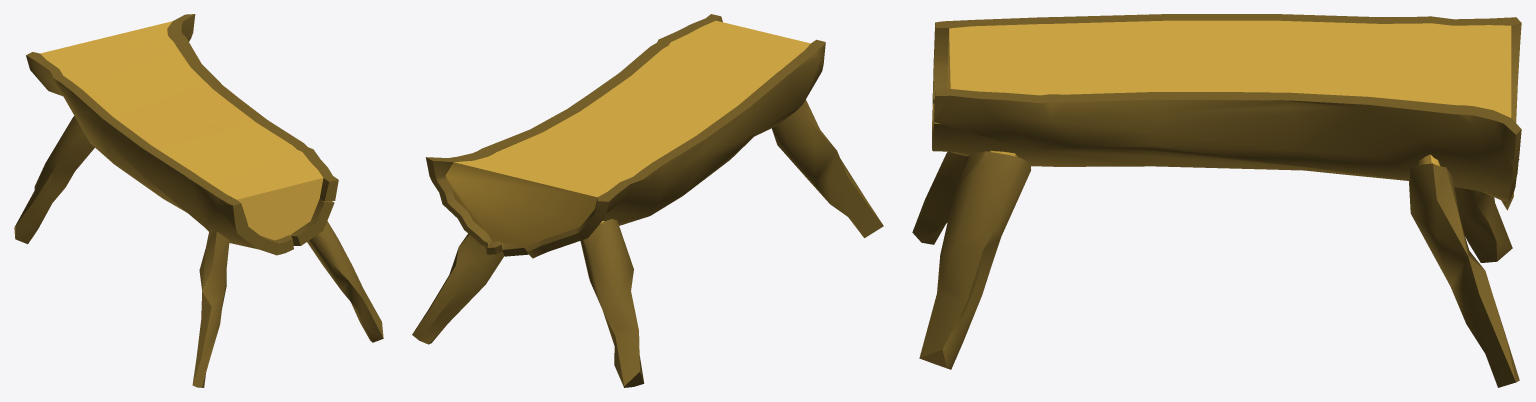
The model's file is workbench-crude.glb.
3 renders of one model, left to right at view 1: azimuth 30°, elevation 25°; view 2: azimuth 150°, elevation 25°; view 3: azimuth 270°, elevation 25°, orthographic. The views are drawn at different scales.
Parts seen in each view (by area): view 1: workbench-crude; view 2: workbench-crude; view 3: workbench-crude.
Part boxes in pixels (x1,y1,x2,y2): workbench-crude: (14, 14, 383, 387); workbench-crude: (412, 14, 883, 387); workbench-crude: (912, 14, 1521, 387).
Bounding box in the file's own units: 1.51 × 1.13 × 2.47.
